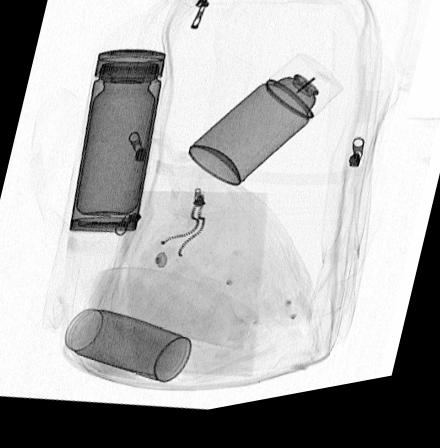Sprayer: (185, 64, 342, 195)
